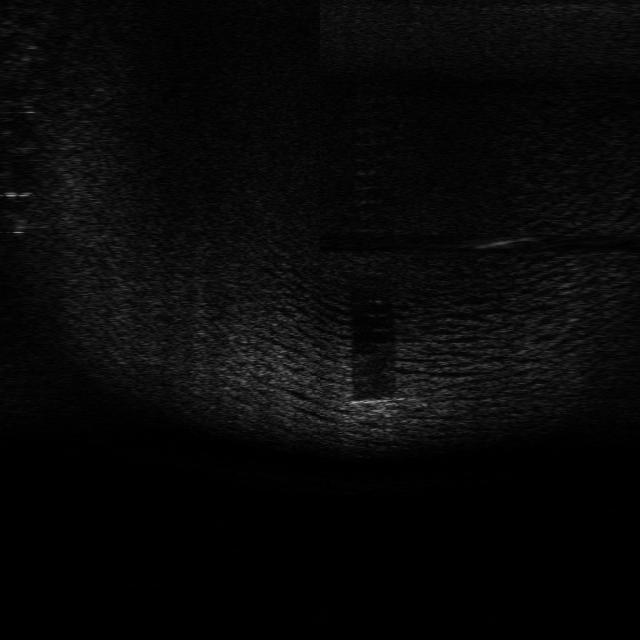cube: (350, 396, 400, 423)
